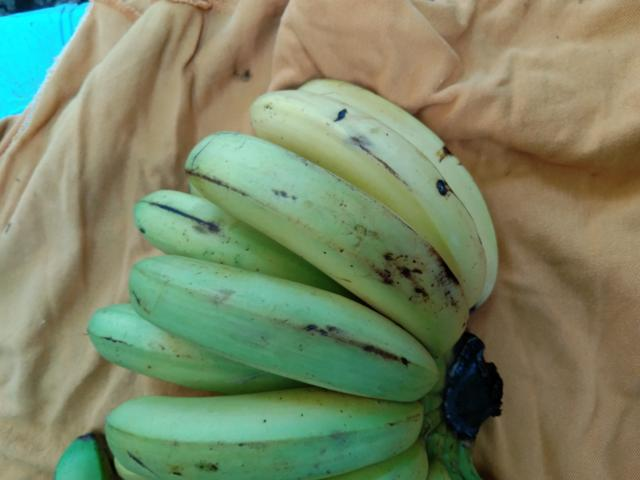ripe: (172, 126, 475, 334), (134, 245, 429, 393)
